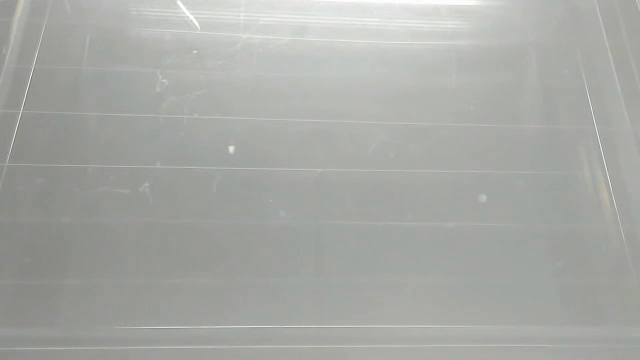alpha: (171, 1, 203, 33), (223, 141, 240, 157), (474, 189, 492, 204)
